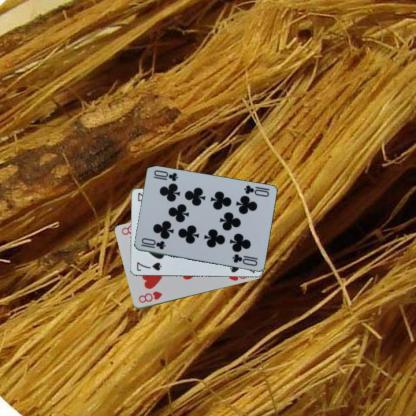10c: (240, 182, 270, 198), (138, 235, 166, 251)
7s: (134, 260, 163, 272)
8h: (136, 288, 164, 304)
